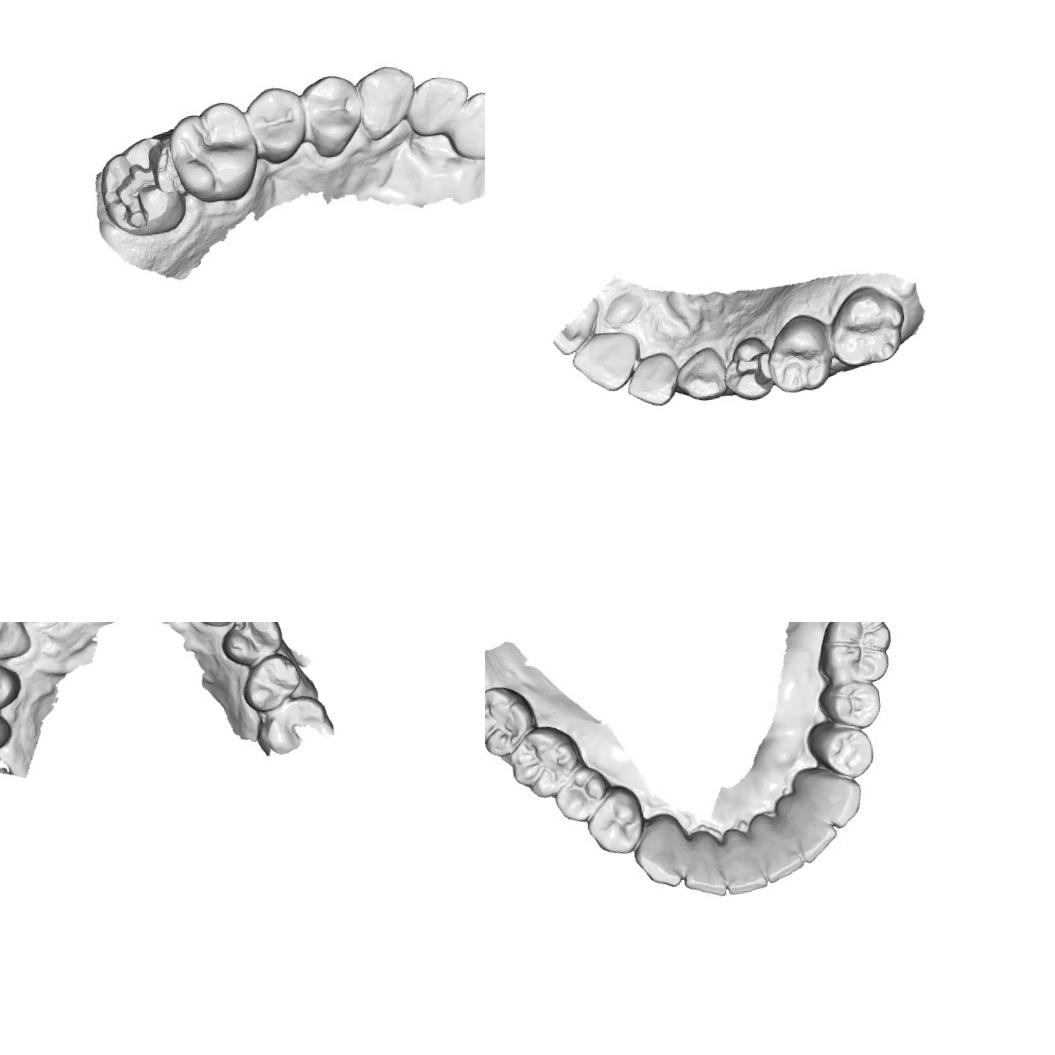canine: (352, 61, 421, 144), (792, 763, 864, 828), (635, 816, 690, 886), (669, 343, 731, 405), (0, 622, 35, 665)
incisor: (568, 327, 646, 397), (402, 72, 476, 144), (780, 792, 838, 860), (622, 348, 685, 410), (749, 810, 804, 879), (679, 827, 732, 896), (718, 825, 769, 895), (443, 85, 485, 166)
inlay: (103, 138, 183, 233), (729, 344, 774, 395)
molar: (164, 97, 260, 209), (824, 281, 911, 371), (761, 309, 838, 397), (254, 691, 338, 756), (506, 730, 579, 801), (823, 622, 898, 690), (485, 688, 532, 758)
premolar: (298, 70, 366, 161), (242, 82, 312, 169), (236, 649, 306, 716), (215, 622, 287, 671), (815, 722, 876, 776), (586, 792, 640, 853), (554, 767, 606, 824), (832, 682, 882, 725), (0, 652, 25, 715)
